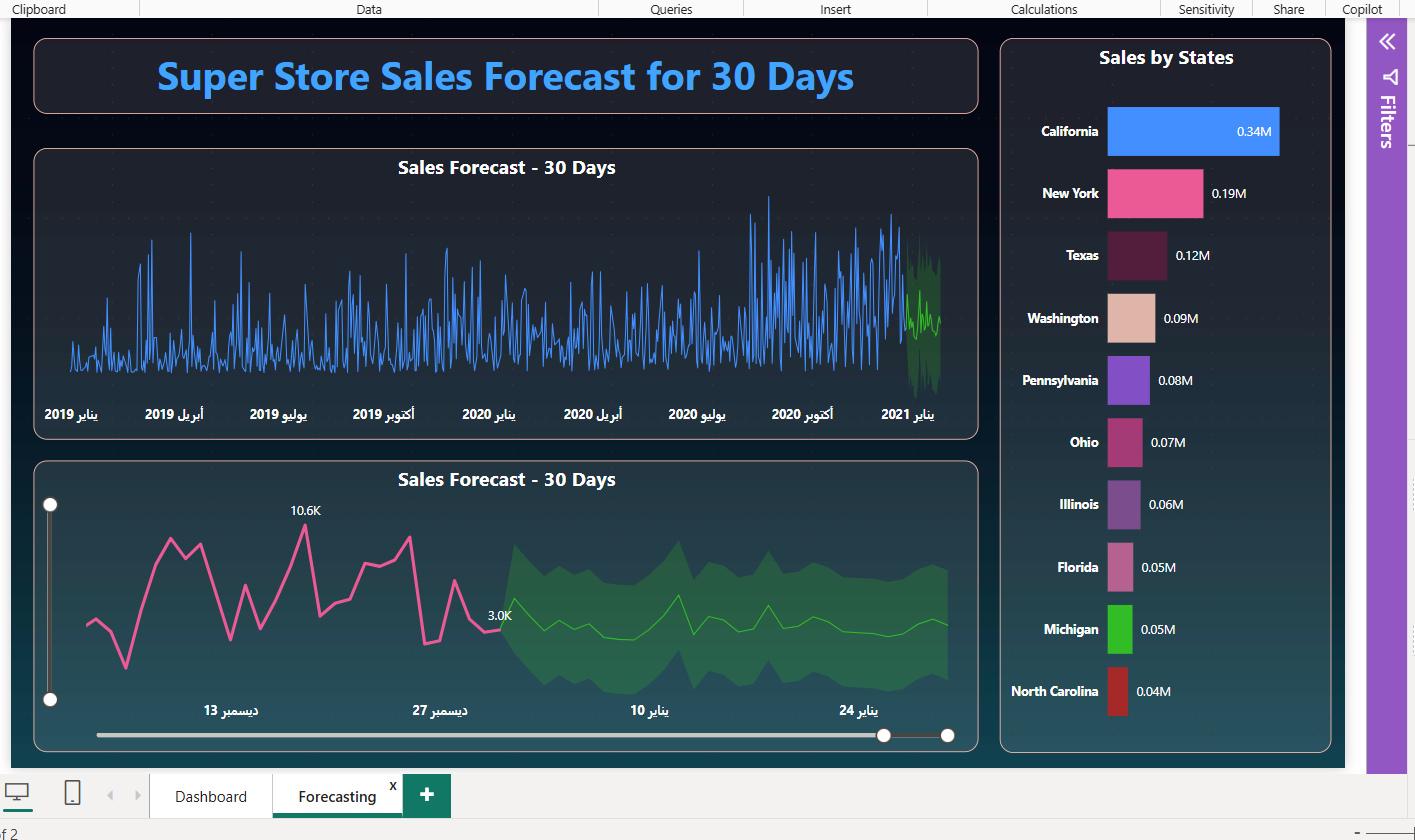

What the dashboard file says about the page in this screenshot:
{"tool":"powerbi","page":{"name":"Forecasting","canvas":[1280,720],"ordinal":1},"visuals":[{"type":"textbox","box":[22,19.2,907,72.7],"z":0},{"type":"lineChart","title":"Sales Forecast - 30 Days","fields":{"Y":["Sum(SuperStore_Sales_Dataset.Sales)"],"Category":["SuperStore_Sales_Dataset.Order Date"]},"box":[22,124.9,907,279.9],"z":1000},{"type":"lineChart","title":"Sales Forecast - 30 Days","fields":{"Y":["Sum(SuperStore_Sales_Dataset.Sales)"],"Category":["SuperStore_Sales_Dataset.Order Date"]},"box":[22,425.4,907,279.9],"z":2000},{"type":"clusteredBarChart","title":"Sales by States","fields":{"Y":["Sum(SuperStore_Sales_Dataset.Sales)"],"Category":["SuperStore_Sales_Dataset.State"]},"box":[949.6,19.2,318.4,686.1],"z":3001}]}

Visuals, with their boxes in screenshot pixels (x1, y1, x2, y2):
textbox: rect(6, 14, 994, 93)
"Sales Forecast - 30 Days" lineChart: rect(6, 129, 994, 434)
"Sales Forecast - 30 Days" lineChart: rect(6, 456, 994, 762)
"Sales by States" clusteredBarChart: rect(1017, 14, 1364, 762)
